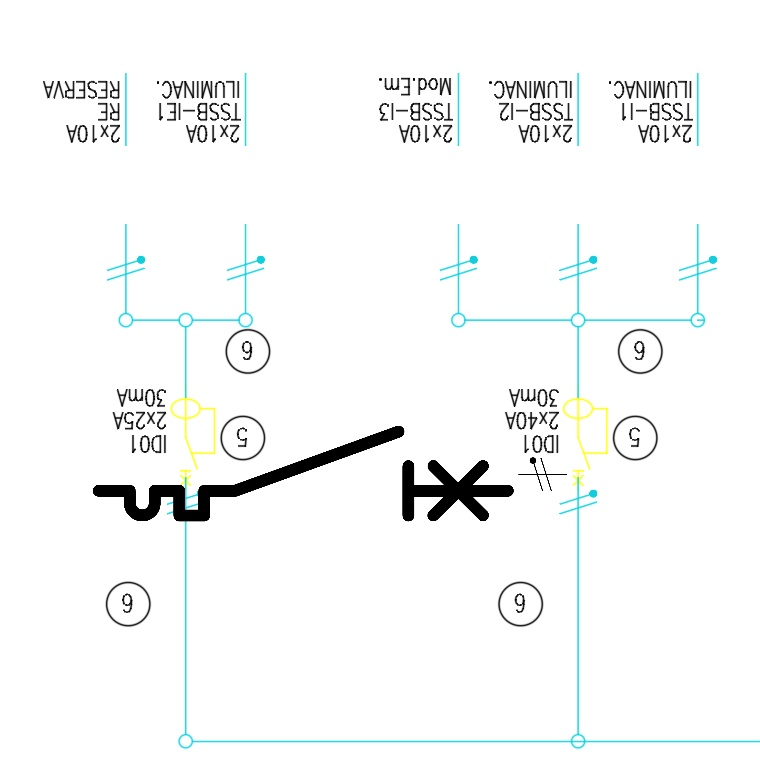interruptor_termomagnetico: (88, 421, 518, 526)
